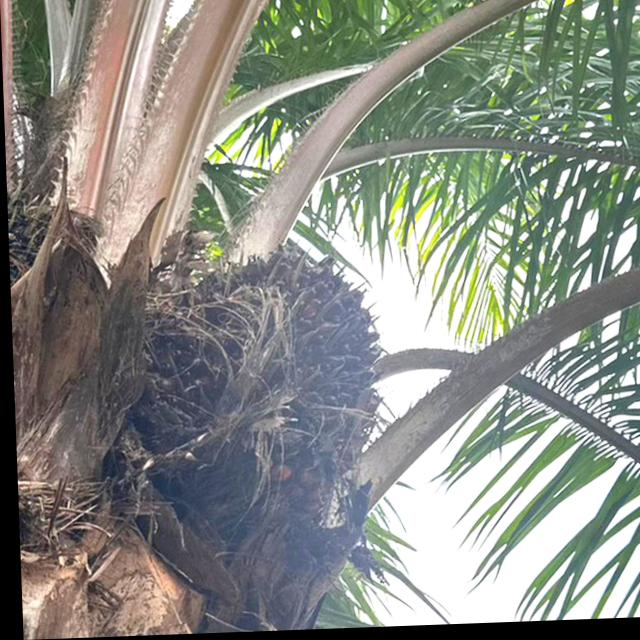ripe: (124, 224, 404, 558)
